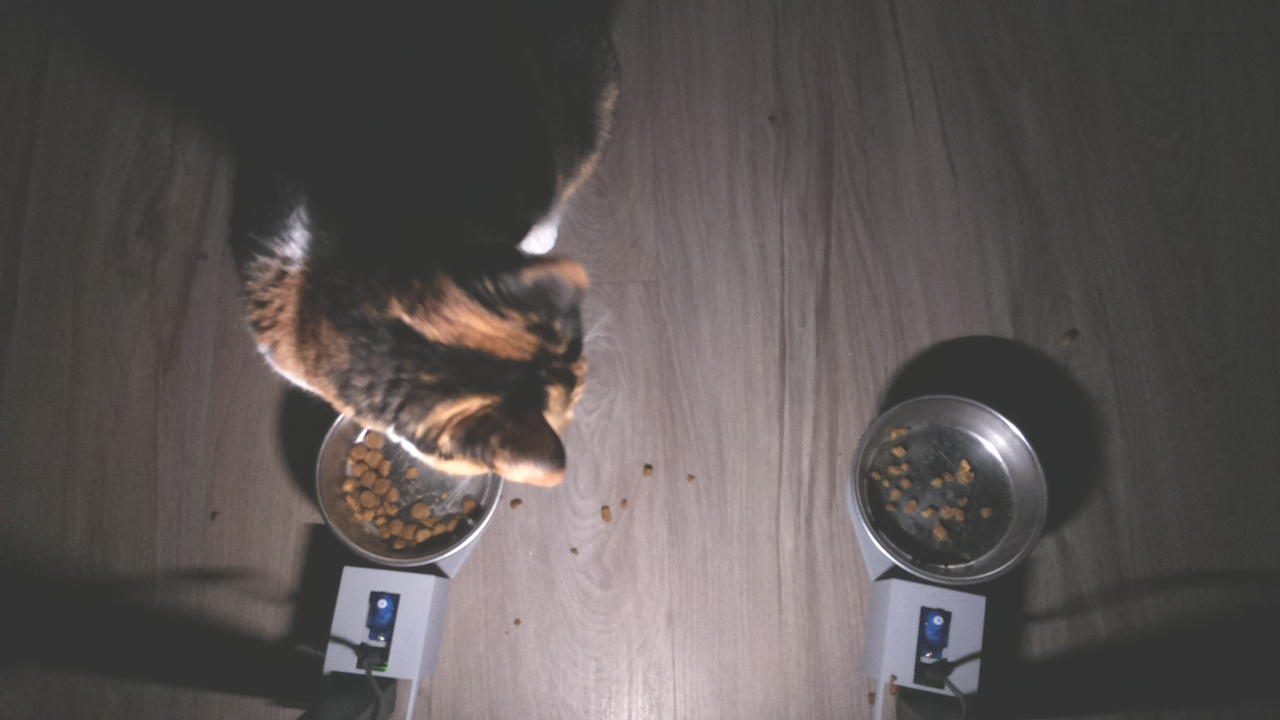bella: (323, 230, 590, 476)
open_bowl: (836, 394, 1058, 591), (301, 406, 516, 570)
